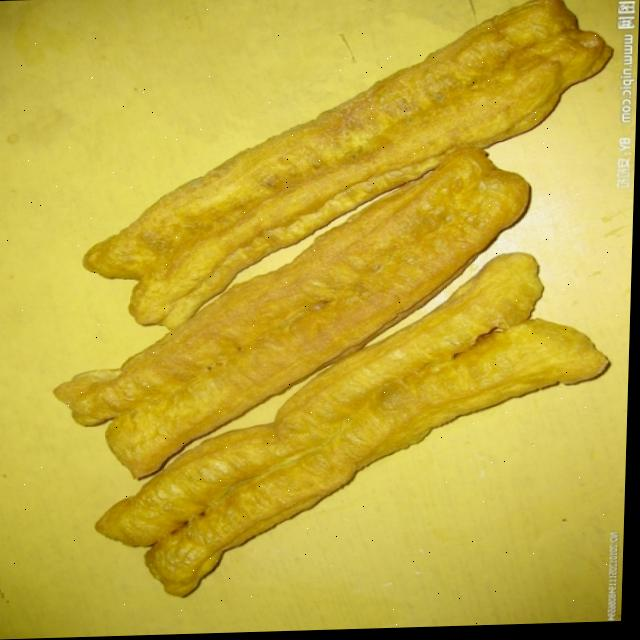炸货点心: (25, 26, 602, 574)
